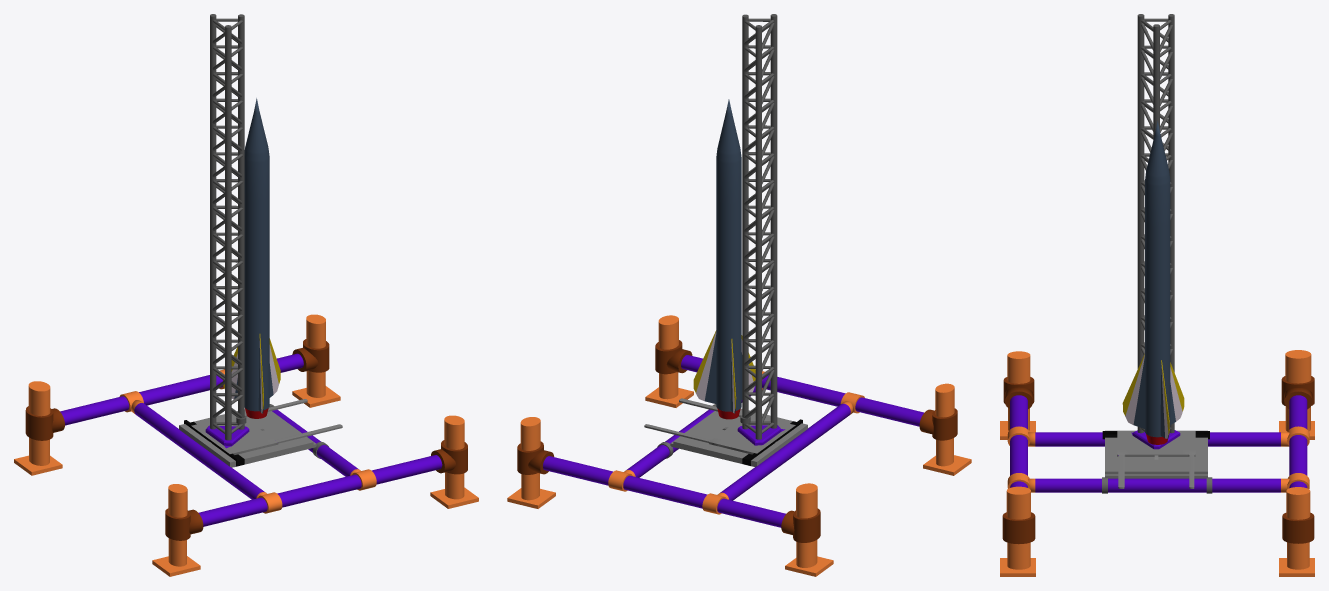
File: Rkt.fbx
3 renders of one model, left to right at view 1: azimuth 30°, elevation 25°; view 2: azimuth 150°, elevation 25°; view 3: azimuth 270°, elevation 25°, orthographic.
Parts seen in each view (by area): view 1: Cube.002, Cylinder.002, Cube.004, Cube.003, Cube.001, Fins; view 2: Cube.002, Cylinder.002, Cube.004, Cube.003, Cube.001, Fins; view 3: Cube.002, Cube.004, Cylinder.002, Cube.001, Cube.003, Fins.
Part boxes in pixels (x1,y1,x2,y2): Cube.002: [14, 314, 478, 576]; Cylinder.002: [210, 14, 246, 440]; Cube.004: [244, 98, 269, 418]; Cube.003: [179, 399, 342, 467]; Cube.001: [134, 403, 358, 499]; Fins: [223, 334, 280, 413]; Cube.002: [507, 315, 971, 576]; Cylinder.002: [740, 14, 777, 439]; Cube.004: [716, 99, 741, 419]; Cube.003: [644, 398, 807, 466]; Cube.001: [627, 386, 850, 500]; Fins: [693, 330, 755, 413]; Cube.002: [1000, 350, 1314, 576]; Cube.004: [1145, 121, 1170, 444]; Cylinder.002: [1137, 14, 1174, 433]; Cube.001: [1035, 432, 1280, 492]; Cube.003: [1102, 430, 1212, 493]; Fins: [1122, 354, 1184, 438].
Size of the model in its own units: 470 by 680 by 411.
